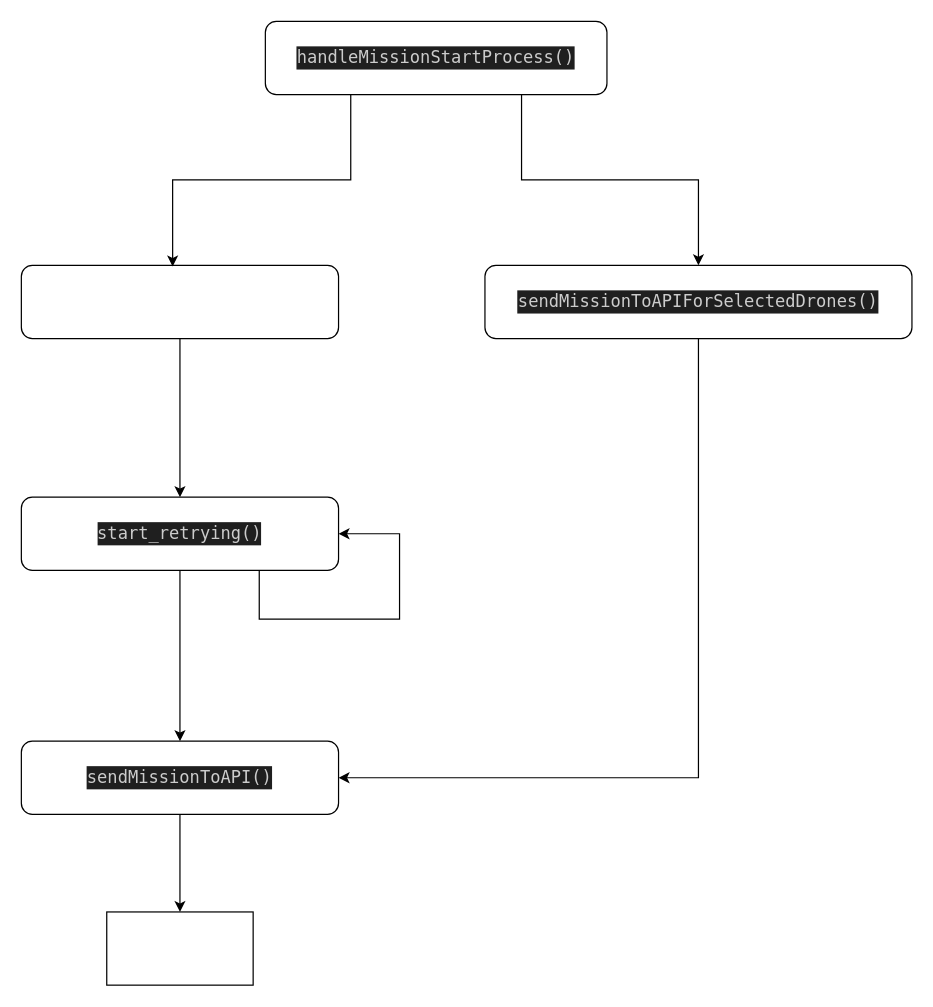
Image size: 933x1007. Some labels were removed from this diagram. Here are the shapes that lost their labels. From the top down, the box of each, then its label:
(20, 264, 339, 339): keep_trying_if_fails()
(106, 911, 253, 985): POST
